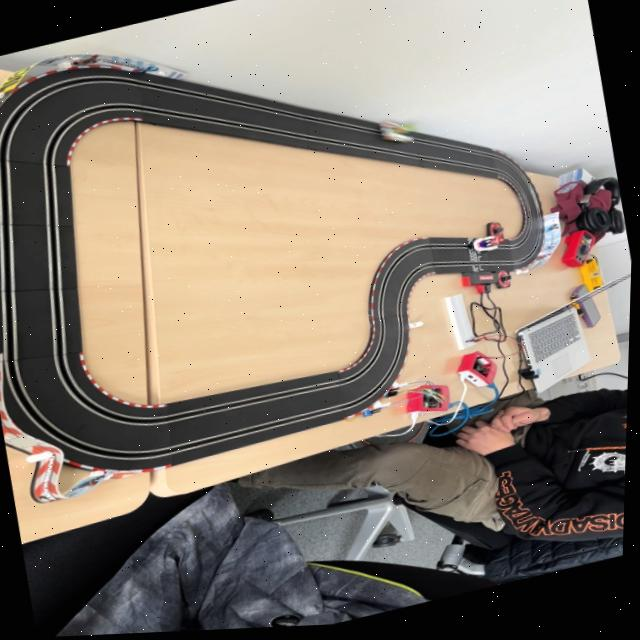mario: (471, 236, 509, 260)
yoshi: (376, 115, 421, 155)
